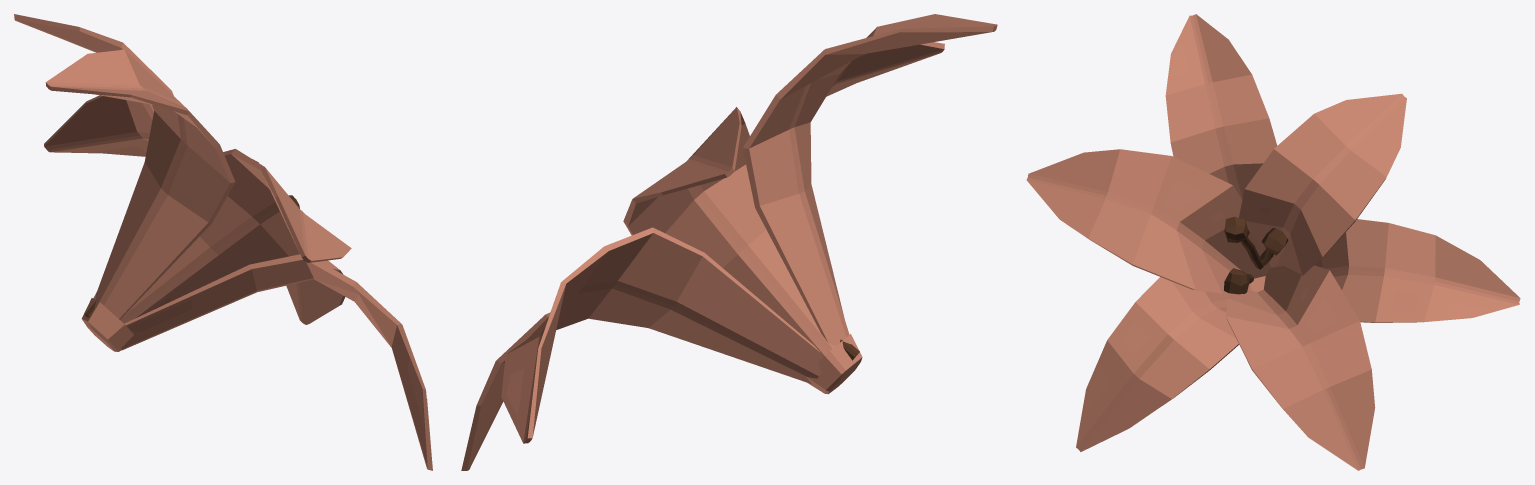
Rendered from Lily_Crown.fbx.
3 renders of one model, left to right at view 1: azimuth 30°, elevation 25°; view 2: azimuth 150°, elevation 25°; view 3: azimuth 270°, elevation 25°, orthographic. The views are drawn at different scales.
Parts seen in each view (by area): view 1: Cube.003, Cube.001, Cube.002, Cube, Cube.006; view 2: Cube.003, Cube, Cube.001, Cube.006; view 3: Cube.001, Cube.003, Cube, Cube.002, Cube.007, Cube.008.
Boxes of the visible parts, bbox=[...] form: Cube.003: bbox=[44, 49, 235, 319]; Cube.001: bbox=[120, 149, 351, 324]; Cube.002: bbox=[121, 254, 432, 470]; Cube: bbox=[14, 14, 173, 299]; Cube.006: bbox=[81, 298, 133, 351]; Cube.003: bbox=[501, 14, 997, 443]; Cube: bbox=[623, 107, 844, 363]; Cube.001: bbox=[461, 42, 944, 470]; Cube.006: bbox=[805, 334, 862, 394]; Cube.001: bbox=[1026, 149, 1375, 470]; Cube.003: bbox=[1165, 14, 1520, 322]; Cube: bbox=[1239, 93, 1406, 275]; Cube.002: bbox=[1076, 277, 1238, 451]; Cube.007: bbox=[1224, 268, 1249, 294]; Cube.008: bbox=[1224, 216, 1249, 242].
Bounding box in the file's own units: 657 × 700 × 981.
